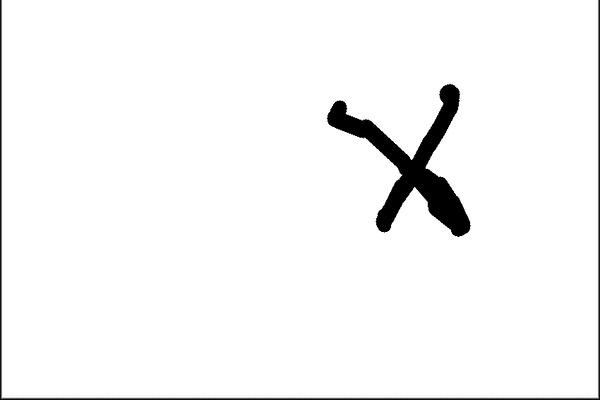X: (301, 74, 517, 269)
